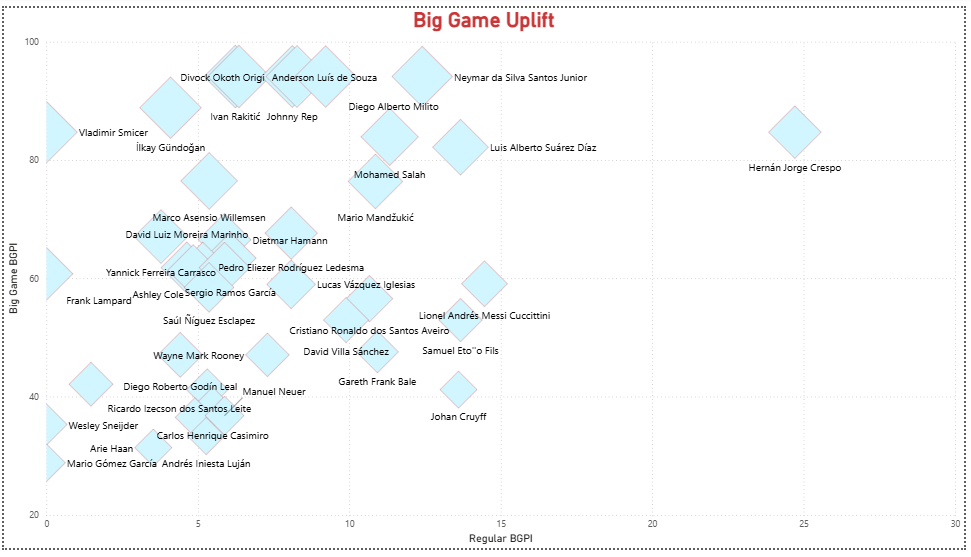

What the dashboard file says about the page in this screenshot:
{"tool":"powerbi","page":{"name":"Big Game Uplift","canvas":[1280,720],"ordinal":2},"visuals":[{"type":"scatterChart","title":"Big Game Uplift","fields":{"X":["public bgpi_scores.Regular BGPI"],"Y":["public bgpi_scores.Big Game BGPI"],"Category":["public players.name"],"Size":["public bgpi_scores.Uplift Score"]},"box":[0,0,1280.3,719.9],"z":0}]}

Visuals, with their boxes in screenshot pixels (x1, y1, x2, y2), scaled from the page's 1280x720 canvas onto the 971x557 screenshot:
"Big Game Uplift" scatterChart: bbox(0, 0, 970, 556)
